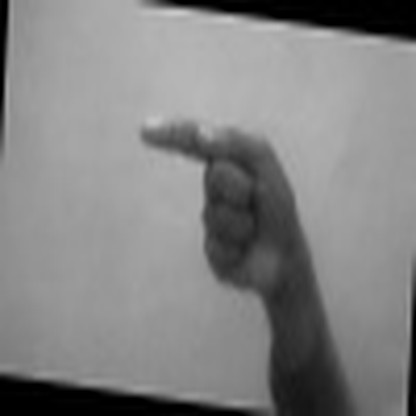g: (101, 109, 348, 289)
